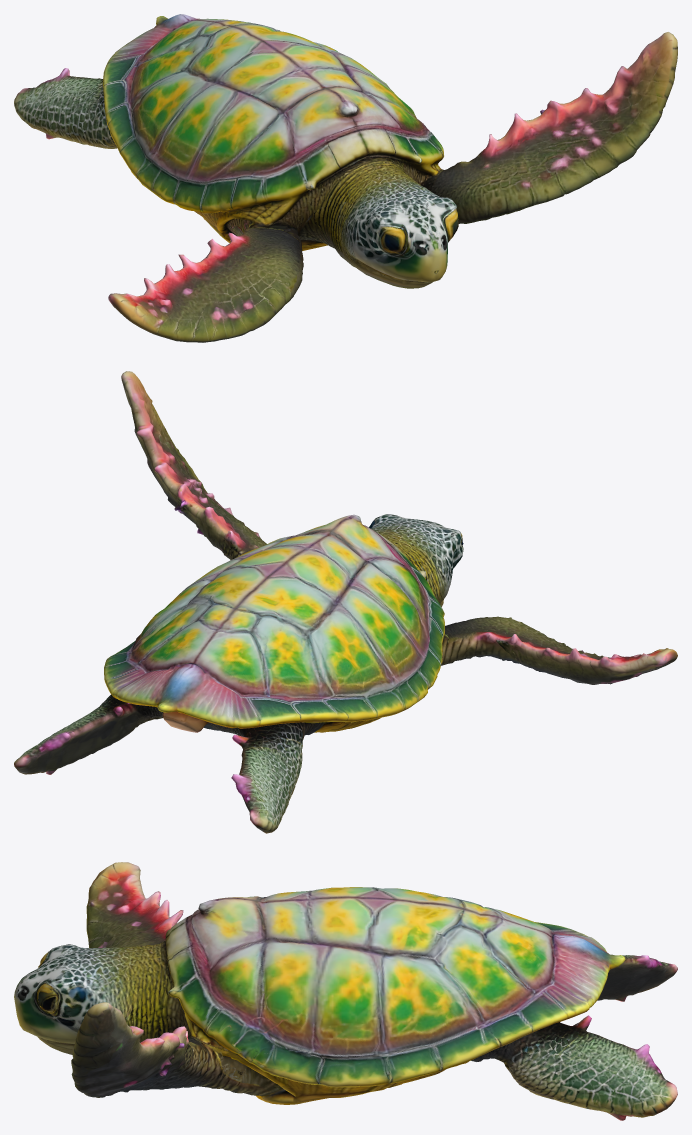
The model's file is turtle.glb.
3 views of the same model, one above another, from view 1: azimuth 30°, elevation 25°; view 2: azimuth 150°, elevation 25°; view 3: azimuth 270°, elevation 25° (orthographic). The views are drawn at different scales.
Bounding box in the file's own units: 1.92 × 0.6612 × 1.82.
1 material, 1 textured.
